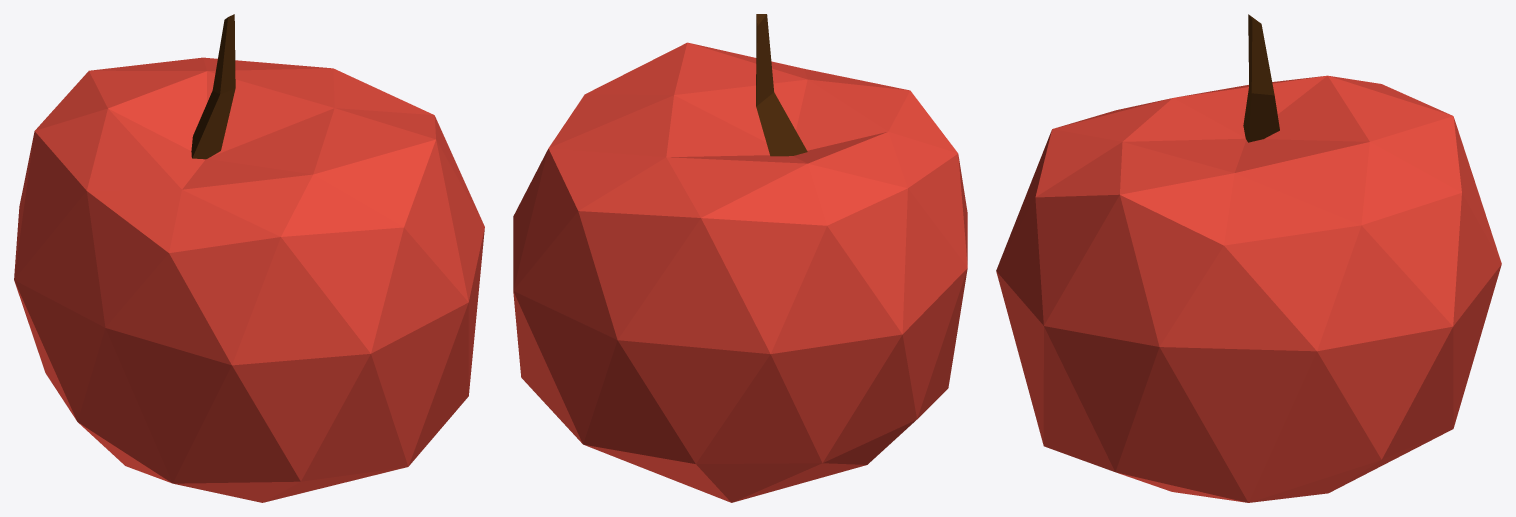
File: Apple.fbx
3 views of the same model, side by side, from view 1: azimuth 30°, elevation 25°; view 2: azimuth 150°, elevation 25°; view 3: azimuth 270°, elevation 25° (orthographic).
Parts seen in each view (by area): view 1: apple; view 2: apple; view 3: apple.
Boxes of the visible parts, x1,y1,x2,y2 form: apple: [14, 14, 484, 502]; apple: [513, 14, 967, 502]; apple: [996, 14, 1501, 502].
Bounding box in the file's own units: 180 × 189 × 200.
